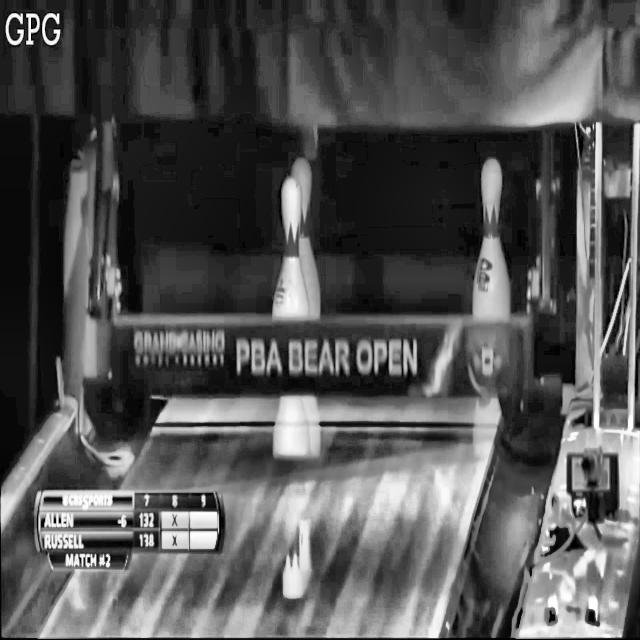bowling-pins: (474, 157, 511, 320), (272, 175, 310, 318), (292, 158, 321, 318)
sweep board: (111, 316, 533, 417)
